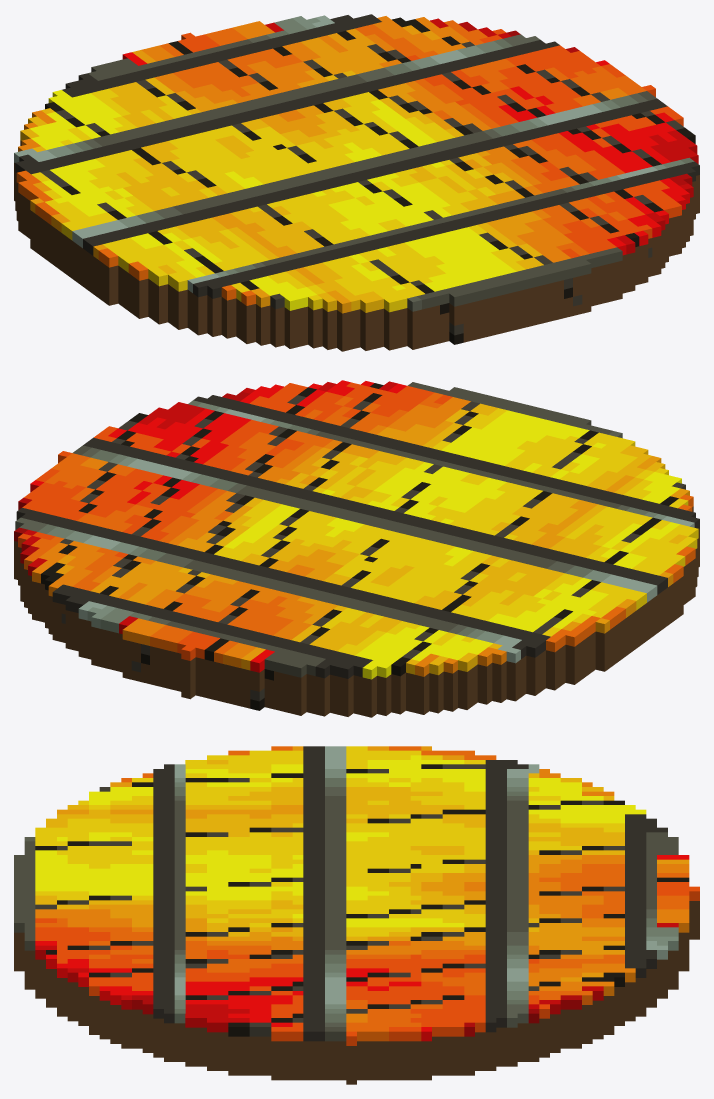
The model's file is Tai_10.obj.
3 renders of one model, top to bottom at view 1: azimuth 30°, elevation 25°; view 2: azimuth 150°, elevation 25°; view 3: azimuth 270°, elevation 25°, orthographic.
Bounding box in the file's own units: 6.4 × 0.5 × 6.4.
